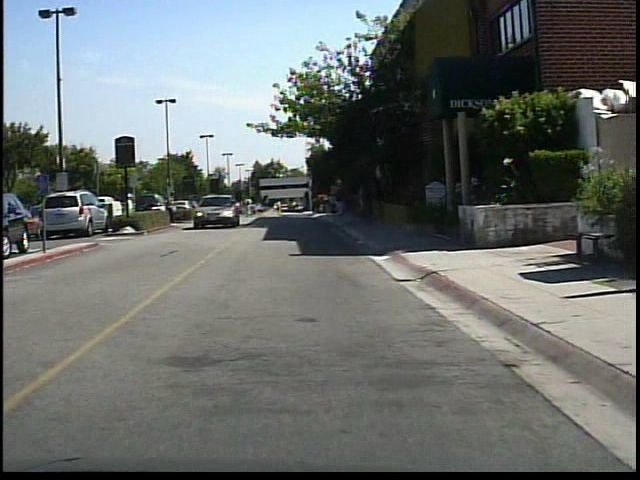person: (162, 187, 182, 225), (125, 190, 138, 231), (123, 192, 137, 229), (243, 192, 259, 222), (341, 179, 342, 218)
